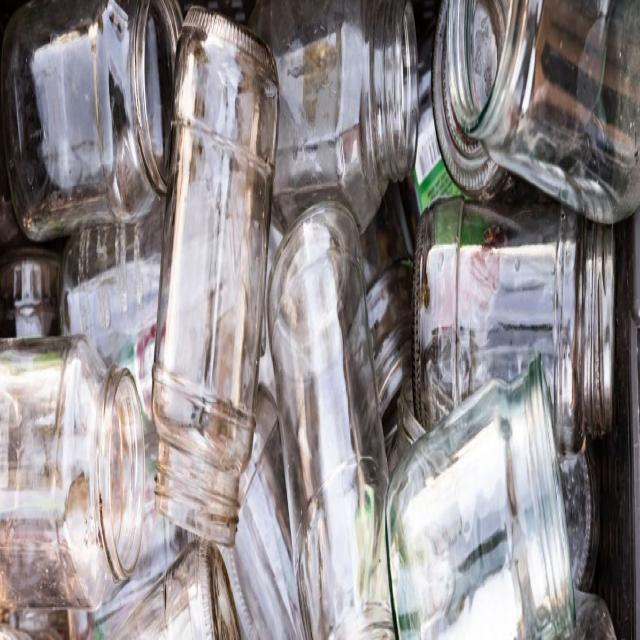electronic: (152, 2, 280, 549), (385, 342, 576, 640), (266, 188, 389, 640), (412, 184, 616, 446), (2, 2, 186, 246), (445, 0, 640, 226), (0, 334, 146, 612), (251, 1, 420, 236)
